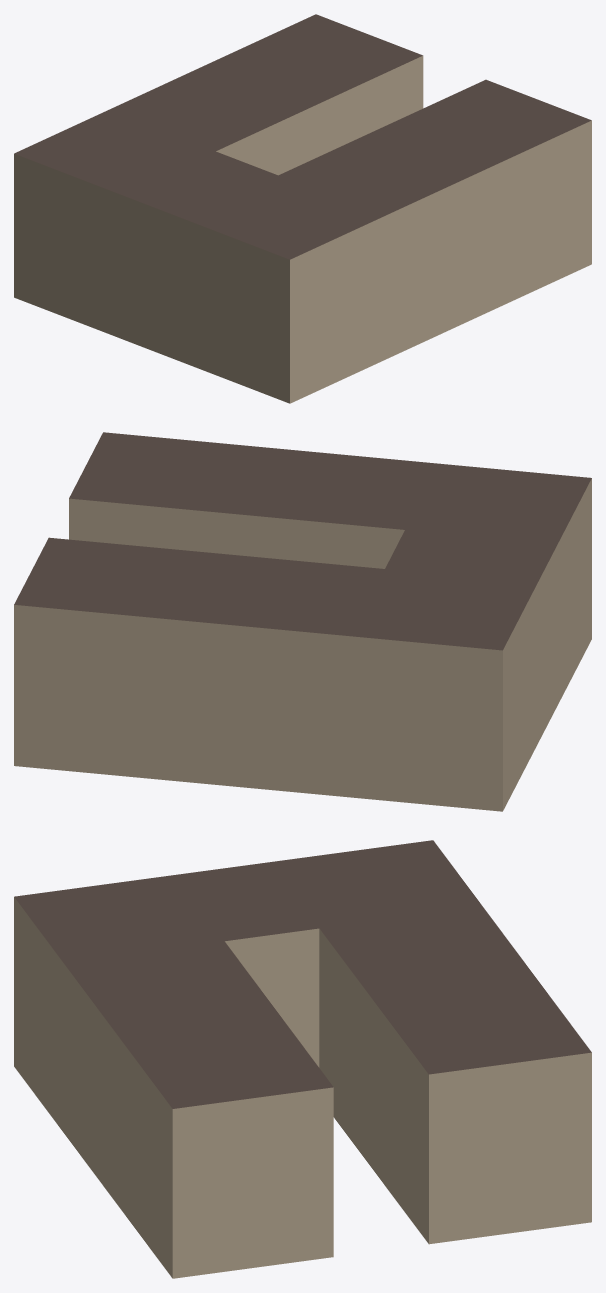
The picture shows the model from 3 angles, top to bottom: view 1: azimuth 30°, elevation 25°; view 2: azimuth 150°, elevation 25°; view 3: azimuth 270°, elevation 25°; orthographic projection. The views are drawn at different scales.
Visible parts, largest first — view 1: HP-w859488894; view 2: HP-w859488894; view 3: HP-w859488894.
Boxes of the visible parts, box(x1,y1,x2,y2) form: HP-w859488894: box(14, 14, 591, 403); HP-w859488894: box(14, 432, 591, 811); HP-w859488894: box(14, 840, 591, 1278).
Bounding box in the file's own units: 30.58 × 9 × 27.77.
